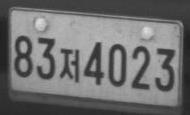0: (108, 42, 127, 88)
2: (130, 44, 151, 90)
3: (154, 47, 175, 91), (36, 36, 56, 80)
4: (83, 41, 105, 85)
8: (13, 34, 33, 78)
저: (59, 48, 79, 83)
